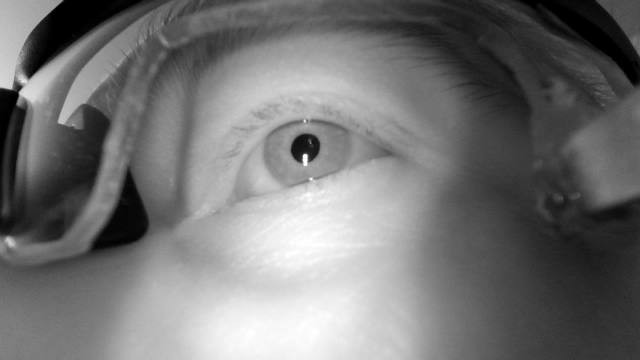pupil: (290, 133, 321, 164)
